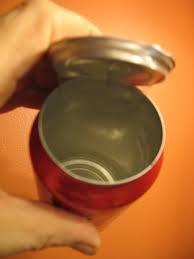Aluminum can: (28, 27, 178, 223)
